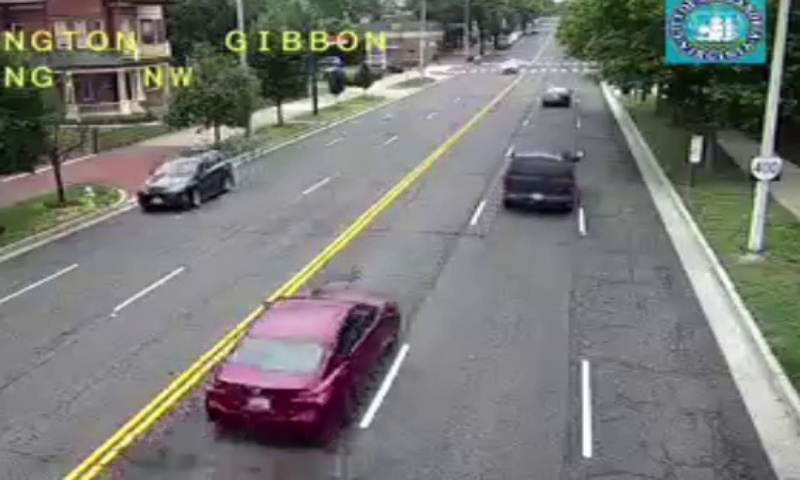car: (205, 293, 396, 433), (502, 152, 574, 209), (540, 86, 569, 106)
